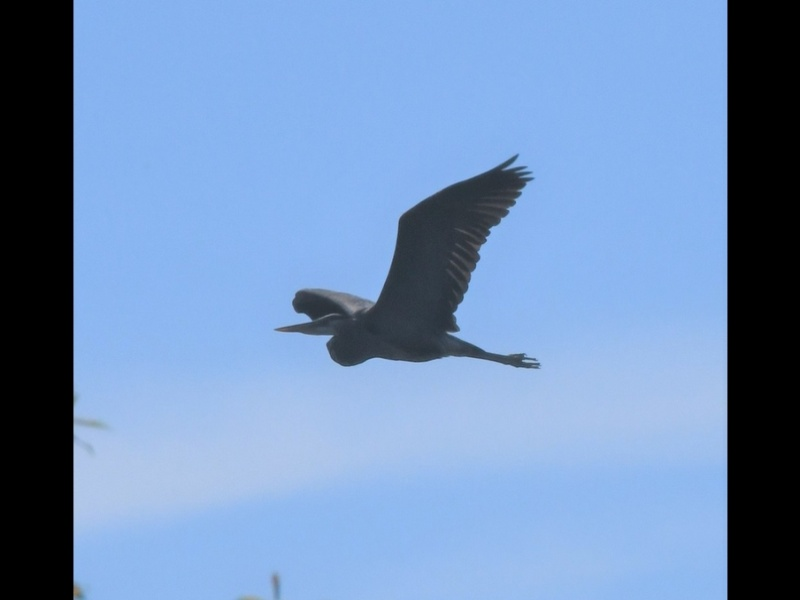heron: (269, 155, 554, 376)
